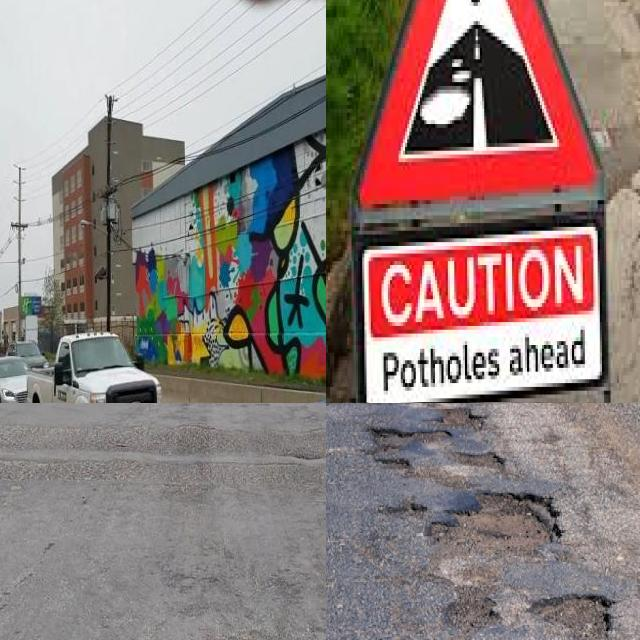Pothole: (369, 403, 562, 626), (530, 597, 607, 633), (545, 605, 602, 640), (491, 516, 553, 547), (454, 600, 493, 626), (373, 429, 408, 447), (456, 455, 497, 466), (510, 545, 539, 556), (451, 411, 474, 423), (395, 452, 409, 470), (399, 501, 413, 515)
